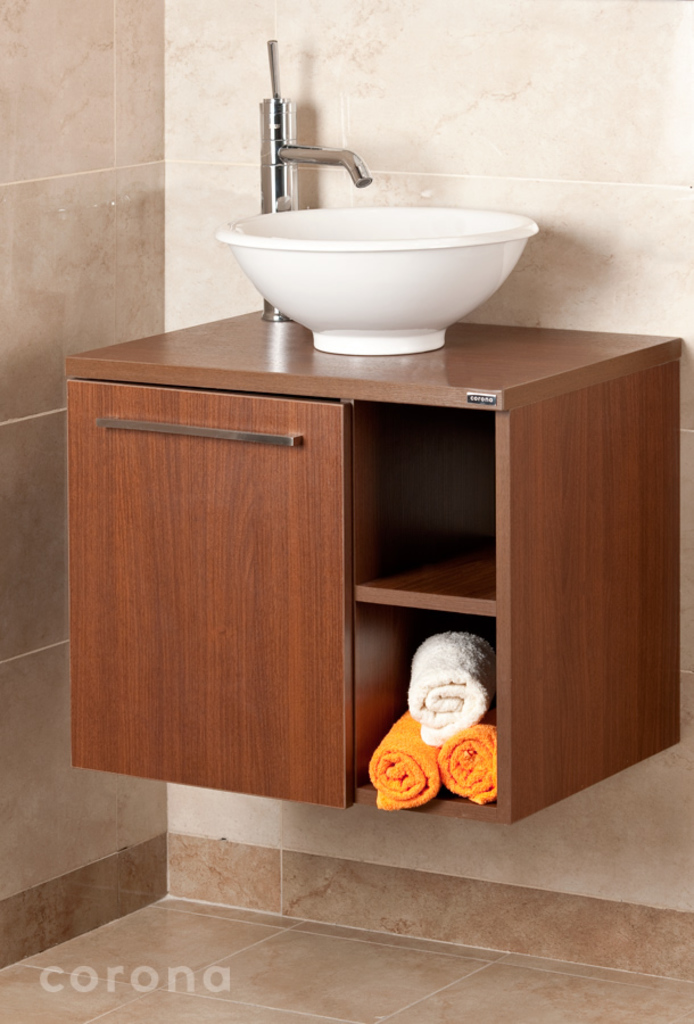tap: (242, 61, 420, 246)
